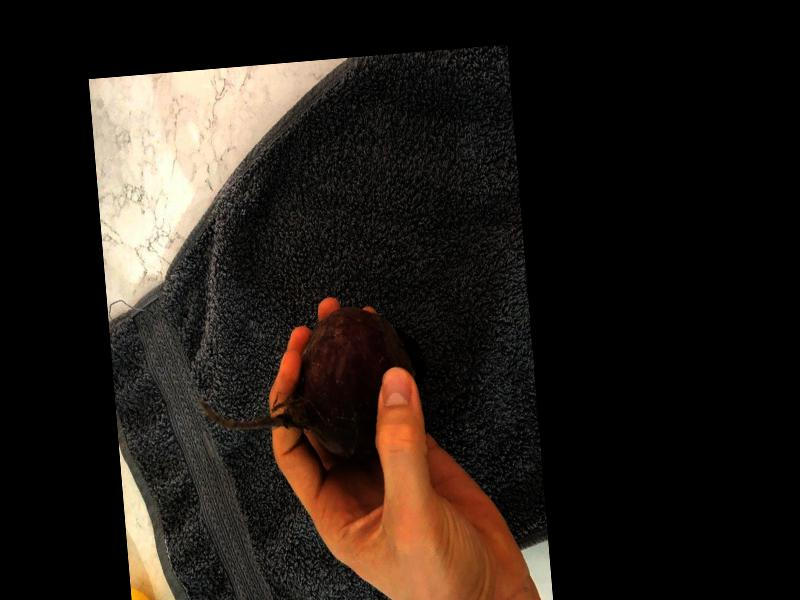Beet: (192, 301, 433, 473)
